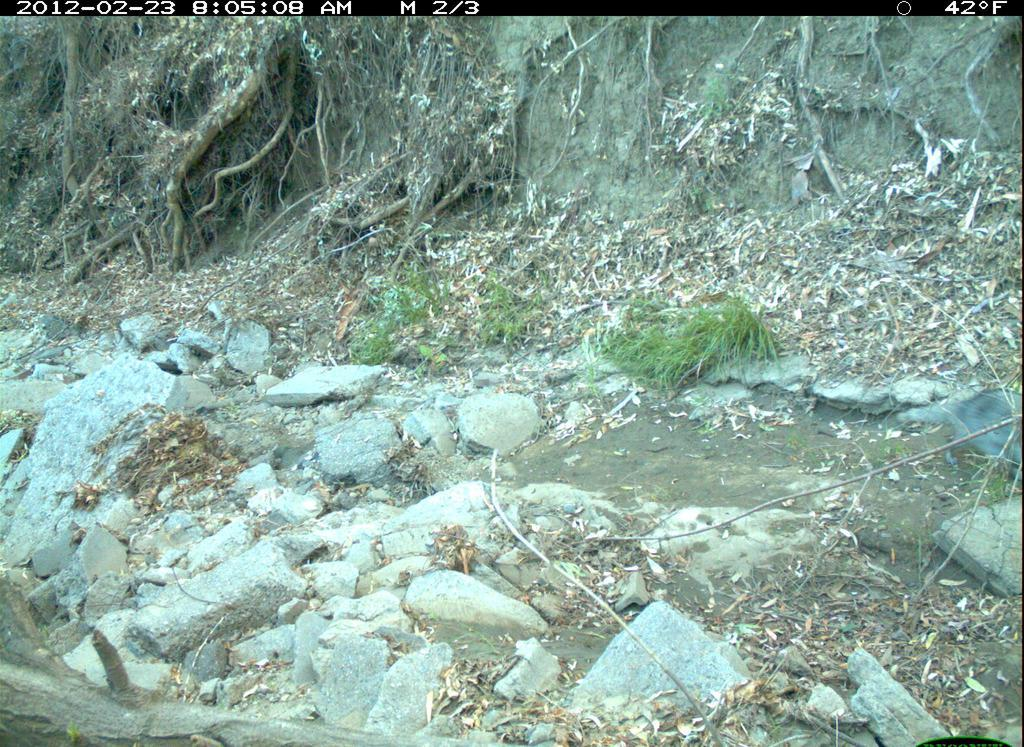raccoon: (895, 375, 1023, 492)
